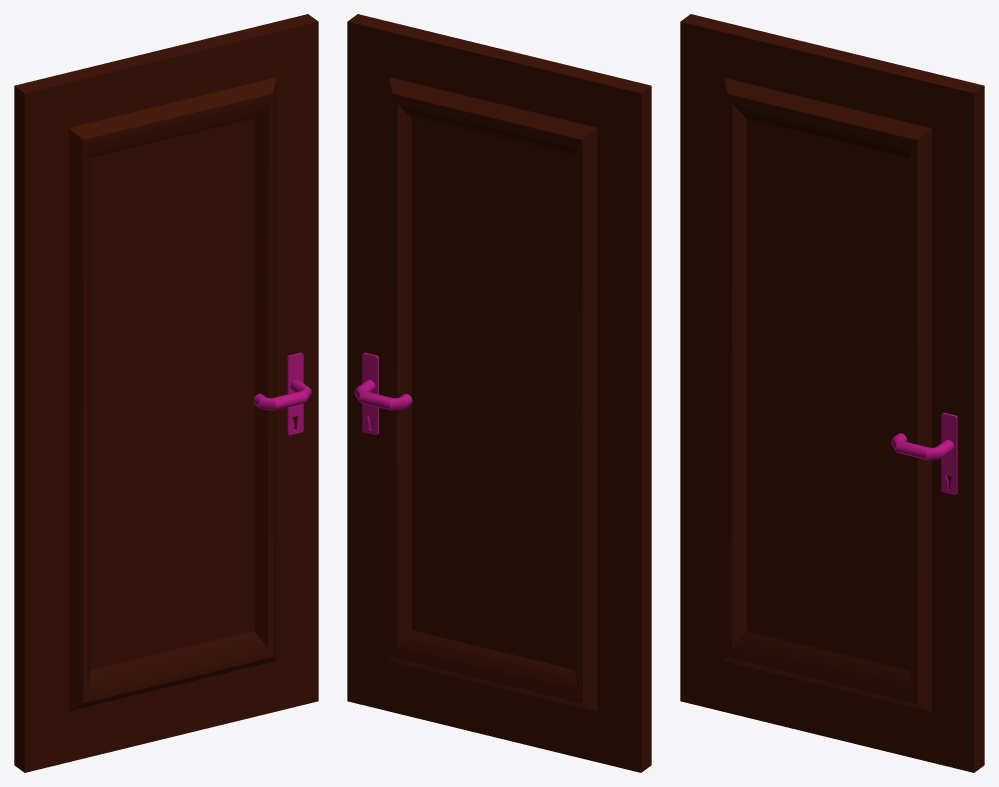
The model's file is Tür.glb.
The picture shows the model from 3 angles, left to right: view 1: azimuth 30°, elevation 25°; view 2: azimuth 150°, elevation 25°; view 3: azimuth 330°, elevation 25°; orthographic projection.
Parts seen in each view (by area): view 1: Cube.002, Cylinder; view 2: Cube.002, Cylinder.001; view 3: Cube.002, Cylinder.
Boxes of the visible parts, x1,y1,x2,y2 form: Cube.002: [14, 14, 318, 772]; Cylinder: [253, 379, 311, 410]; Cube.002: [347, 14, 651, 772]; Cylinder.001: [354, 380, 412, 410]; Cube.002: [680, 14, 984, 772]; Cylinder: [891, 433, 954, 460].
Size of the model in its own units: 0.9015 by 1.99 by 0.248.
